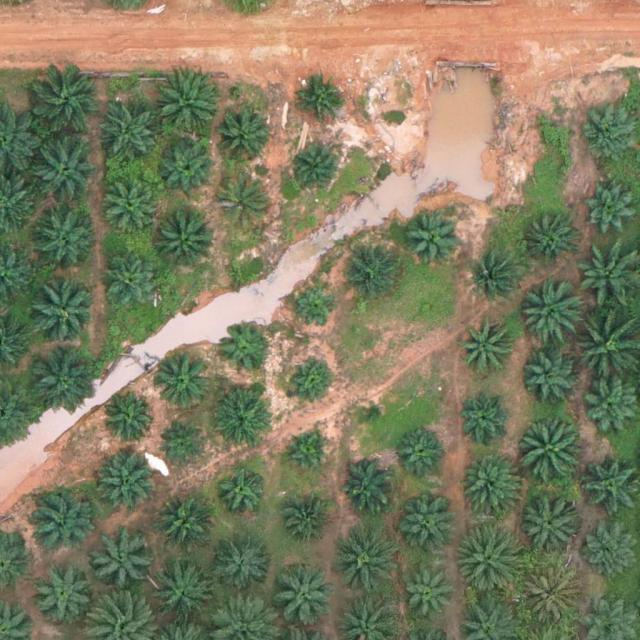Healthy: (29, 202, 100, 273), (31, 66, 101, 137), (32, 136, 102, 207), (24, 272, 95, 342), (152, 69, 222, 140), (457, 525, 527, 596), (27, 349, 97, 419), (100, 99, 163, 162), (519, 351, 582, 414), (519, 422, 582, 485), (209, 393, 272, 456), (460, 454, 523, 517), (272, 568, 335, 631), (92, 528, 155, 591), (578, 243, 640, 306), (521, 560, 583, 623), (523, 286, 585, 349), (519, 492, 581, 555), (342, 245, 404, 308), (399, 497, 461, 560), (94, 457, 157, 519), (31, 562, 93, 625), (29, 490, 91, 553), (152, 206, 214, 268), (335, 531, 397, 593), (212, 532, 274, 594), (154, 566, 216, 628), (294, 71, 349, 126), (215, 177, 270, 232), (103, 178, 158, 233), (105, 253, 160, 308), (161, 140, 216, 195), (218, 108, 273, 163), (582, 183, 637, 238), (584, 381, 639, 436), (584, 528, 639, 583), (470, 252, 525, 307), (403, 208, 458, 263), (279, 498, 334, 553), (462, 320, 517, 375), (459, 393, 514, 448), (401, 572, 456, 627), (394, 421, 449, 476), (342, 458, 397, 513), (153, 353, 208, 408), (102, 393, 157, 448), (291, 144, 345, 199), (577, 104, 631, 159), (526, 213, 580, 268), (220, 323, 274, 378), (157, 498, 211, 553)
Small: (218, 468, 265, 516), (284, 431, 331, 479), (162, 426, 209, 473), (288, 358, 335, 405), (295, 283, 342, 330), (358, 396, 389, 427)
